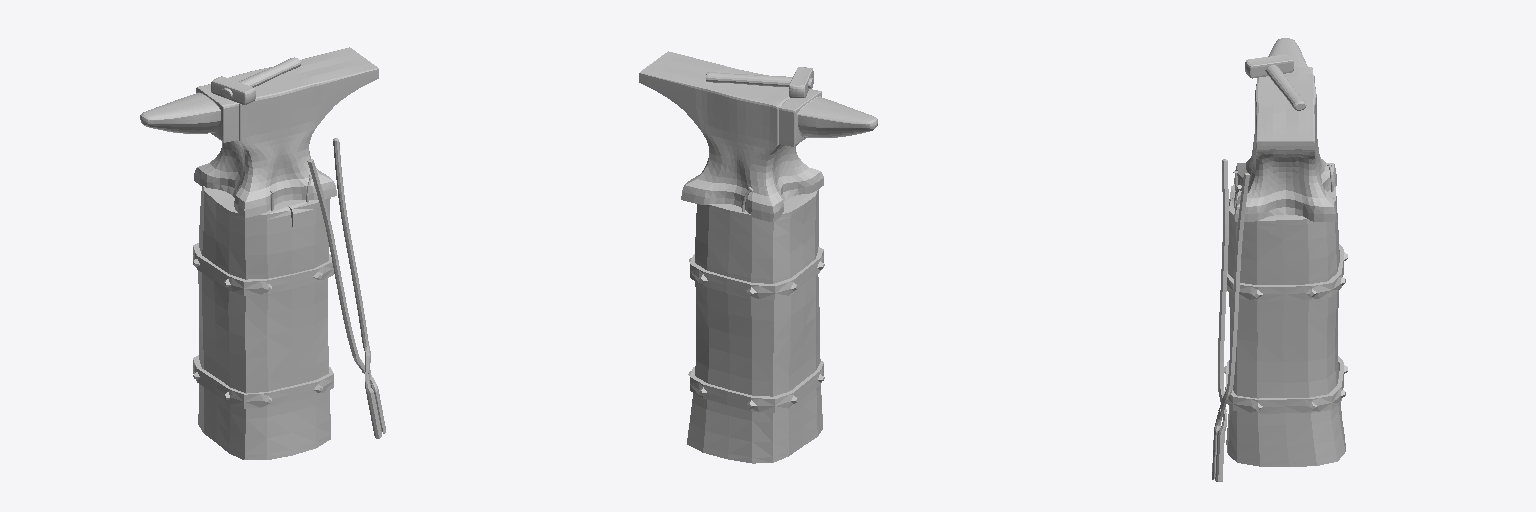
Rendered from anvil.obj.
3 renders of one model, left to right at view 1: azimuth 30°, elevation 25°; view 2: azimuth 150°, elevation 25°; view 3: azimuth 270°, elevation 25°, orthographic.
Visible parts, largest first — view 1: Cube:009_Cube:010.002; view 2: Cube:009_Cube:010.002; view 3: Cube:009_Cube:010.002.
Boxes of the visible parts, box(x1,y1,x2,y2) form: Cube:009_Cube:010.002: box(140, 47, 385, 459); Cube:009_Cube:010.002: box(639, 51, 877, 463); Cube:009_Cube:010.002: box(1212, 38, 1347, 481).
Size of the model in its own units: 1.18 by 1.85 by 0.6259.